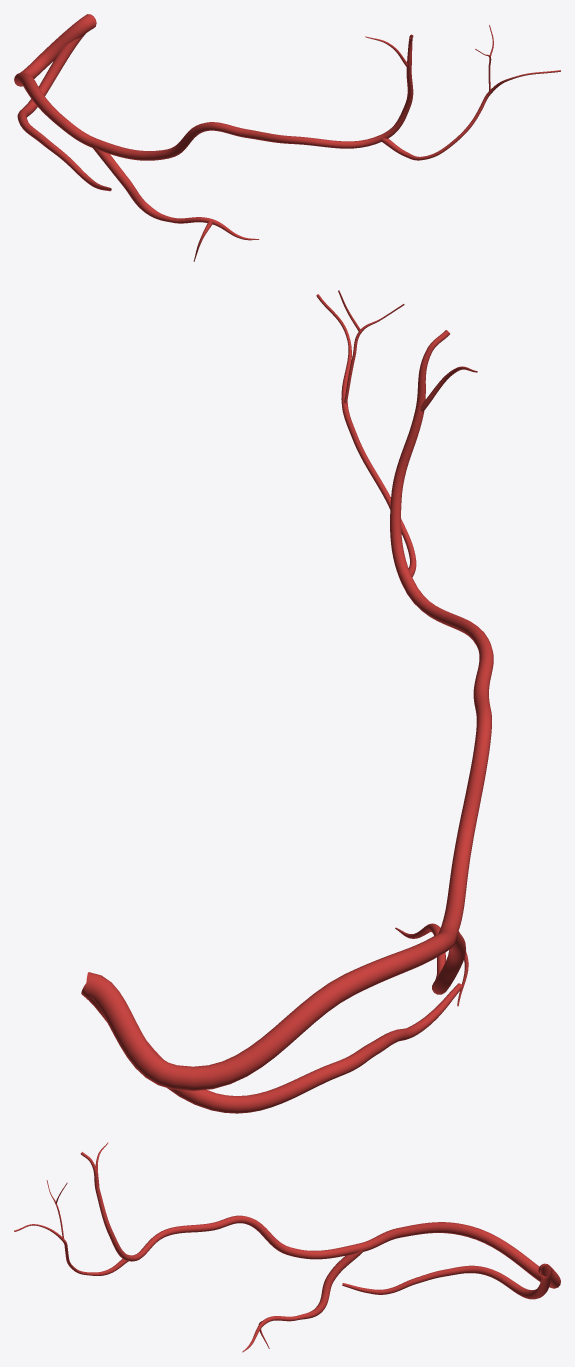
3 renders of one model, top to bottom at view 1: azimuth 30°, elevation 25°; view 2: azimuth 150°, elevation 25°; view 3: azimuth 270°, elevation 25°, orthographic. The views are drawn at different scales.
Visible parts, largest first — view 1: 右侧中央前沟动脉; view 2: 右侧中央前沟动脉; view 3: 右侧中央前沟动脉.
Part boxes in pixels (x1,y1,x2,y2): 右侧中央前沟动脉: (14, 14, 560, 261); 右侧中央前沟动脉: (81, 290, 493, 1113); 右侧中央前沟动脉: (14, 1142, 560, 1352).
Bounding box in the file's own units: 0.0567 × 0.0518 × 0.1046.
